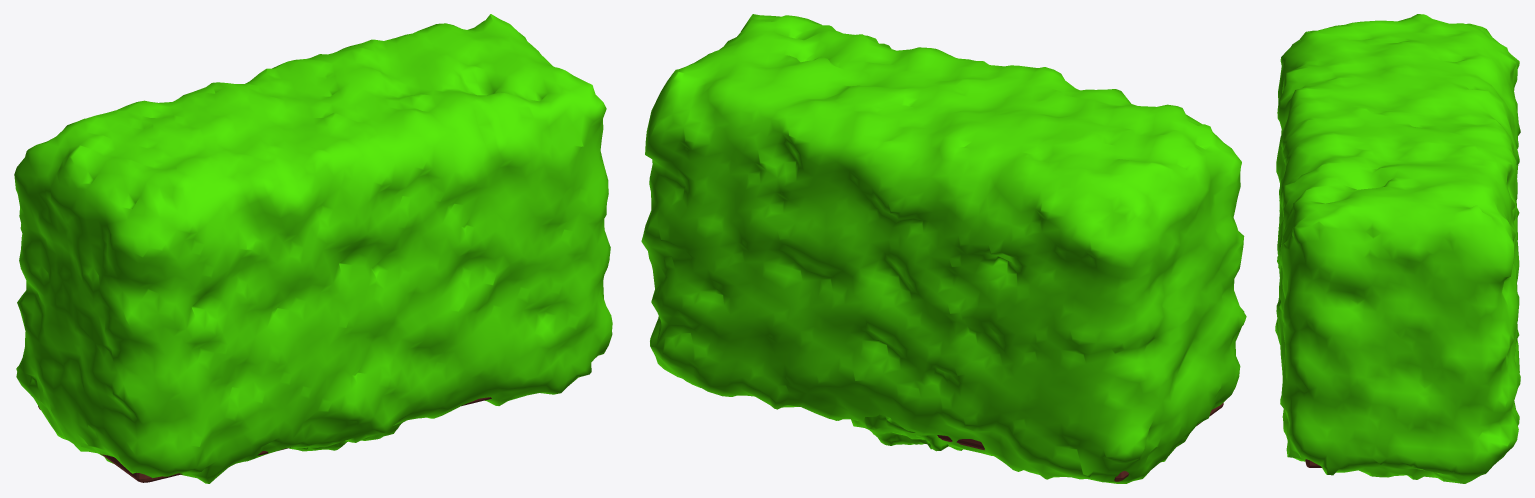
File: Bush2.fbx
3 views of the same model, side by side, from view 1: azimuth 30°, elevation 25°; view 2: azimuth 150°, elevation 25°; view 3: azimuth 270°, elevation 25° (orthographic). The views are drawn at different scales.
Visible parts, largest first — view 1: Plane.001; view 2: Plane.001, Plane.002; view 3: Plane.001.
Boxes of the visible parts, x1=… form: Plane.001: x1=14, y1=14, x2=612, y2=483; Plane.001: x1=641, y1=14, x2=1246, y2=483; Plane.002: x1=851, y1=414, x2=962, y2=451; Plane.001: x1=1275, y1=14, x2=1520, y2=483.
Bounding box in the file's own units: 274 × 169 × 129.
